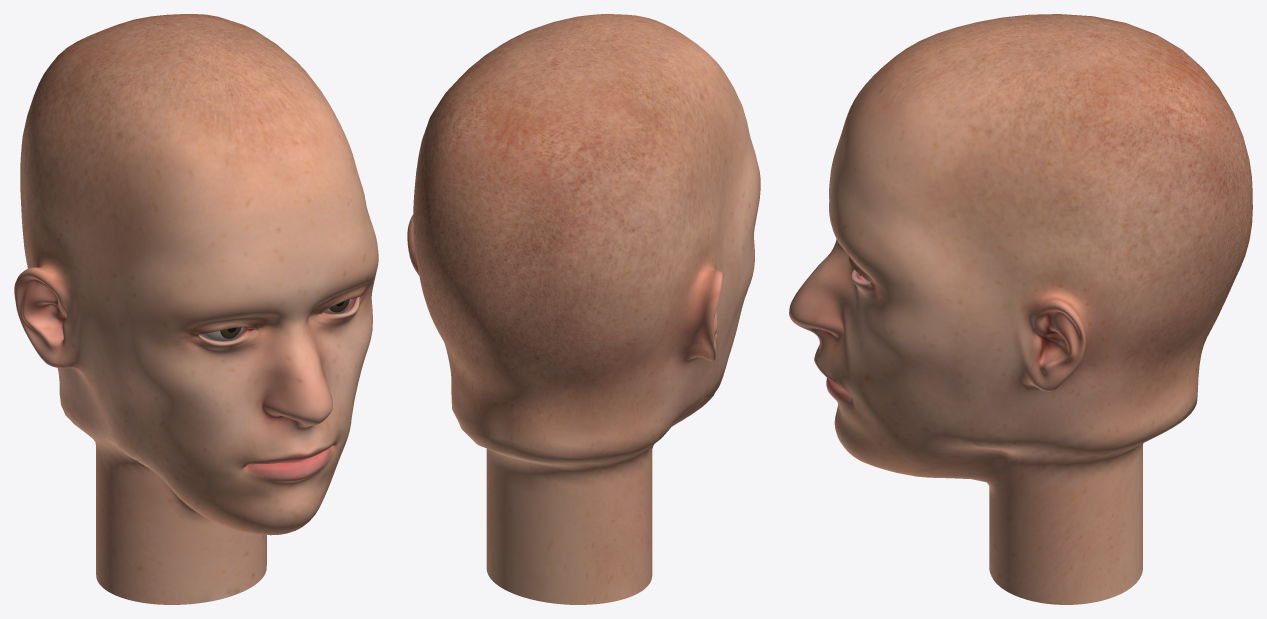
Rendered from human-head.glb.
3 renders of one model, left to right at view 1: azimuth 30°, elevation 25°; view 2: azimuth 150°, elevation 25°; view 3: azimuth 270°, elevation 25°, orthographic. The views are drawn at different scales.
Parts seen in each view (by area): view 1: Human head; view 2: Human head; view 3: Human head.
Part boxes in pixels (x1,y1,x2,y2): Human head: (14,14,378,604); Human head: (407,14,760,604); Human head: (789,14,1252,604).
Size of the model in its own units: 0.21 by 0.3388 by 0.2655.
Materials: 4 (1 with a texture image).
